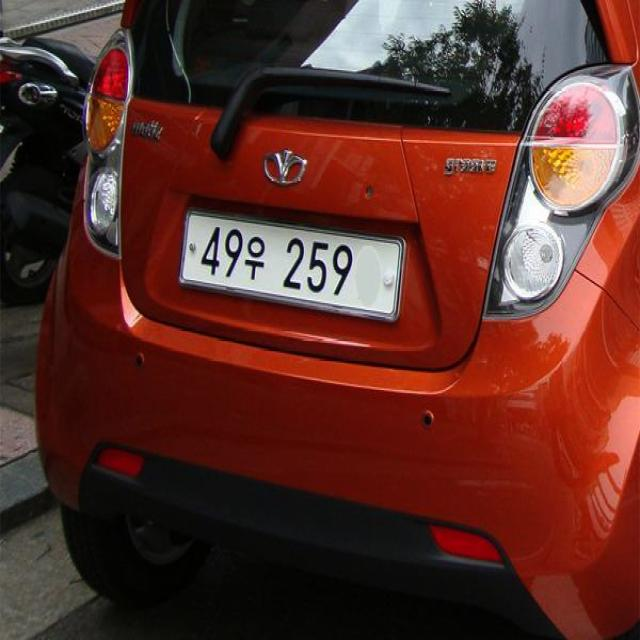car: (30, 0, 640, 640)
illegal_plate: (182, 203, 402, 337)
